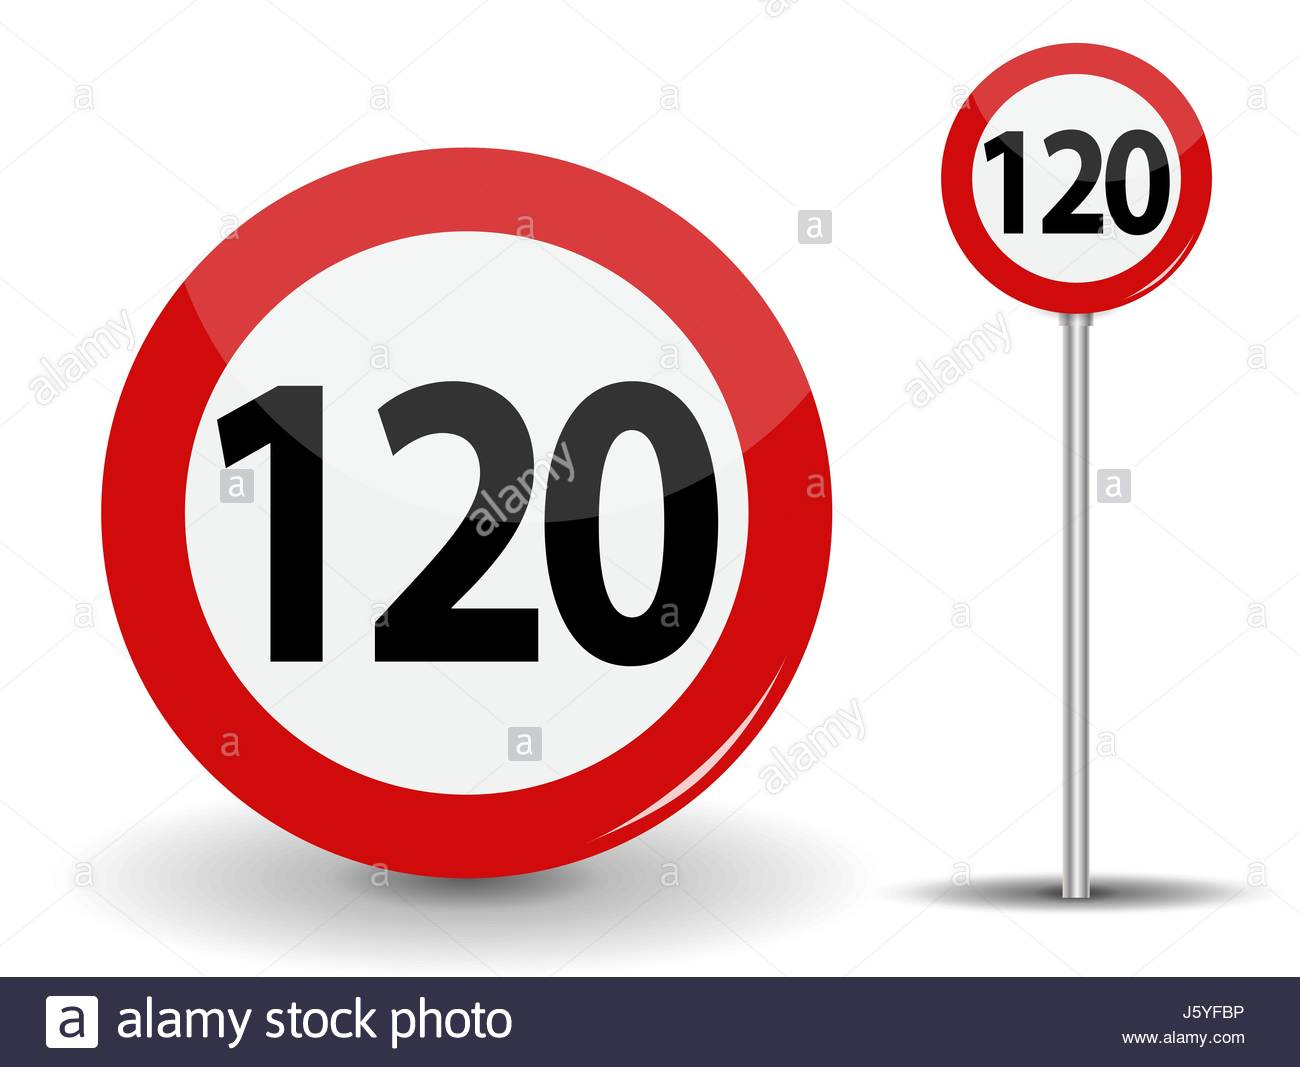Speed_limit_120km: (97, 152, 832, 877), (938, 42, 1213, 310)
